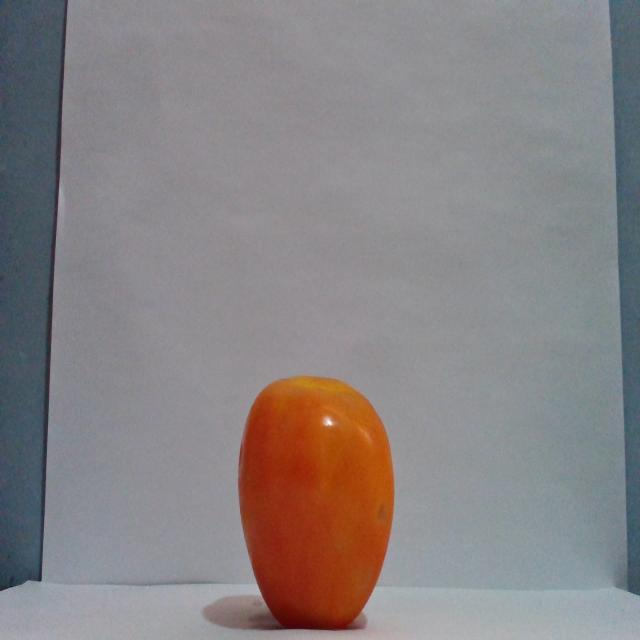Red: (236, 373, 395, 629)
